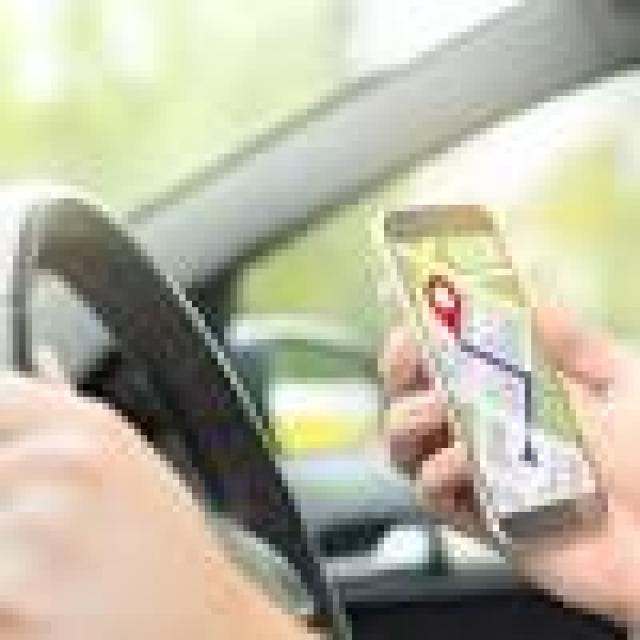Cellphone_texting: (346, 198, 634, 614)
